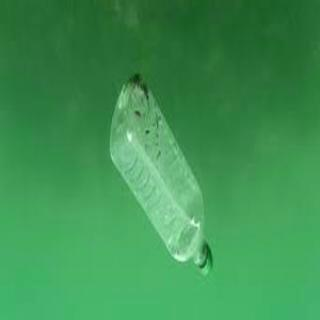Plastic: (105, 71, 216, 279)
